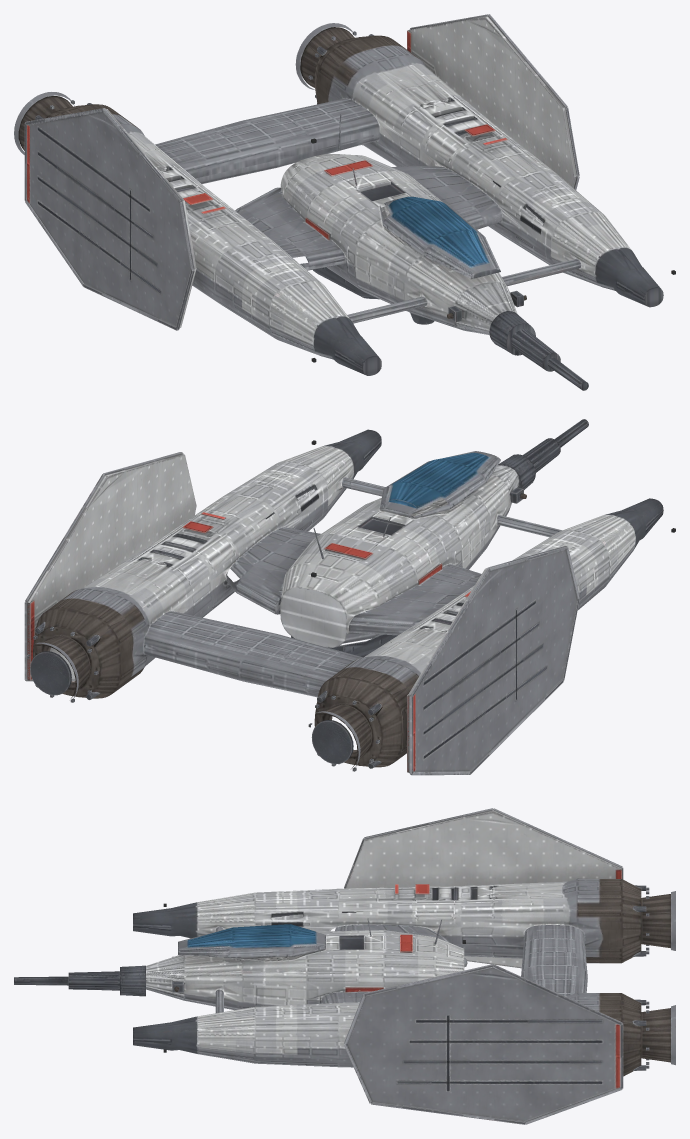
File: sd_ship_sahin_hd.glb
3 views of the same model, one above another, from view 1: azimuth 30°, elevation 25°; view 2: azimuth 150°, elevation 25°; view 3: azimuth 270°, elevation 25° (orthographic). The views are drawn at different scales.
Visible parts, largest first — view 1: LOD0_body, LOD1_body; view 2: LOD0_body, LOD1_body; view 3: LOD0_body, LOD1_body.
Boxes of the visible parts, box(x1,y1,x2,y2) form: LOD0_body: box(14, 14, 675, 390); LOD1_body: box(14, 14, 675, 390); LOD0_body: box(24, 419, 675, 775); LOD1_body: box(24, 419, 673, 774); LOD0_body: box(14, 808, 675, 1124); LOD1_body: box(14, 810, 675, 1121).
Size of the model in its own units: 0.5607 by 0.2667 by 1.
1 material, 1 textured.
